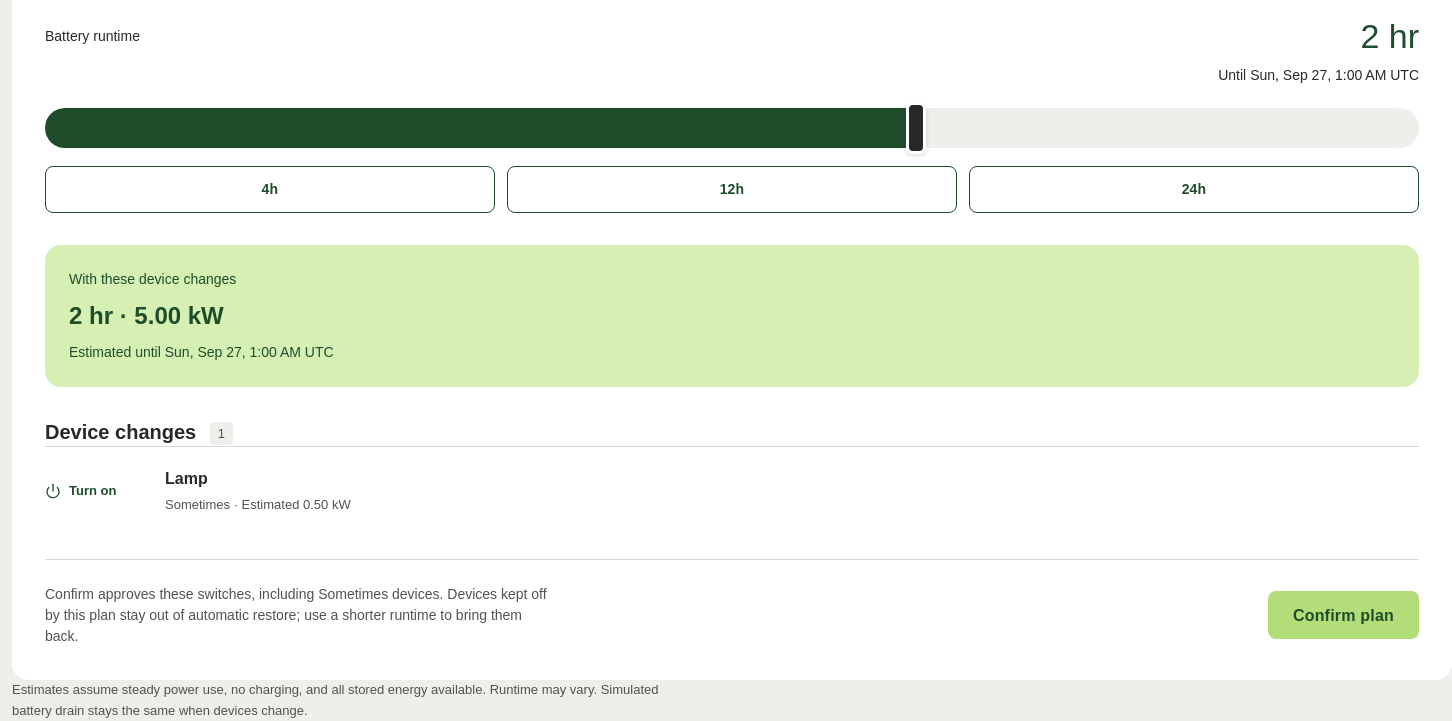
Test: shows turn-on plans and pending confirmation separately from success
(page scrolled)
Expected: the text "Turn on" is shown, [45, 483, 116, 499]
Click the button "Confirm plan" at (1343, 615), box [1268, 591, 1419, 639]
(page scrolled)
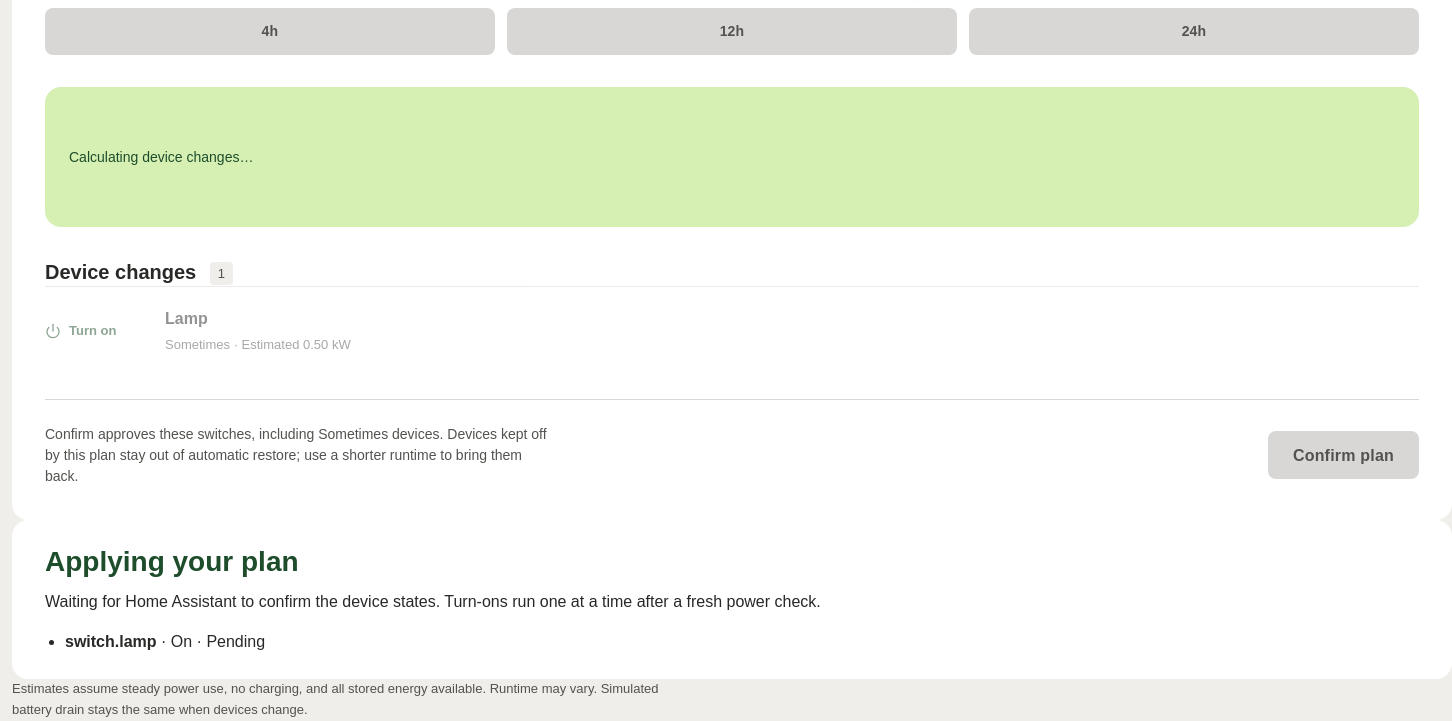
Now the heading "Applying your plan" is shown, box [45, 546, 299, 577]
